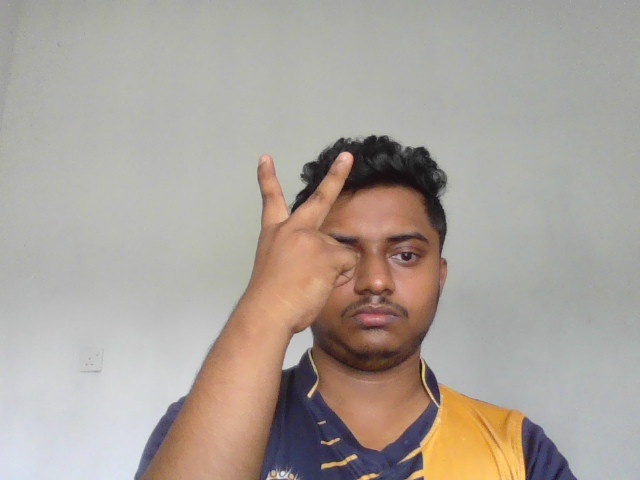See You: (240, 152, 363, 341)
